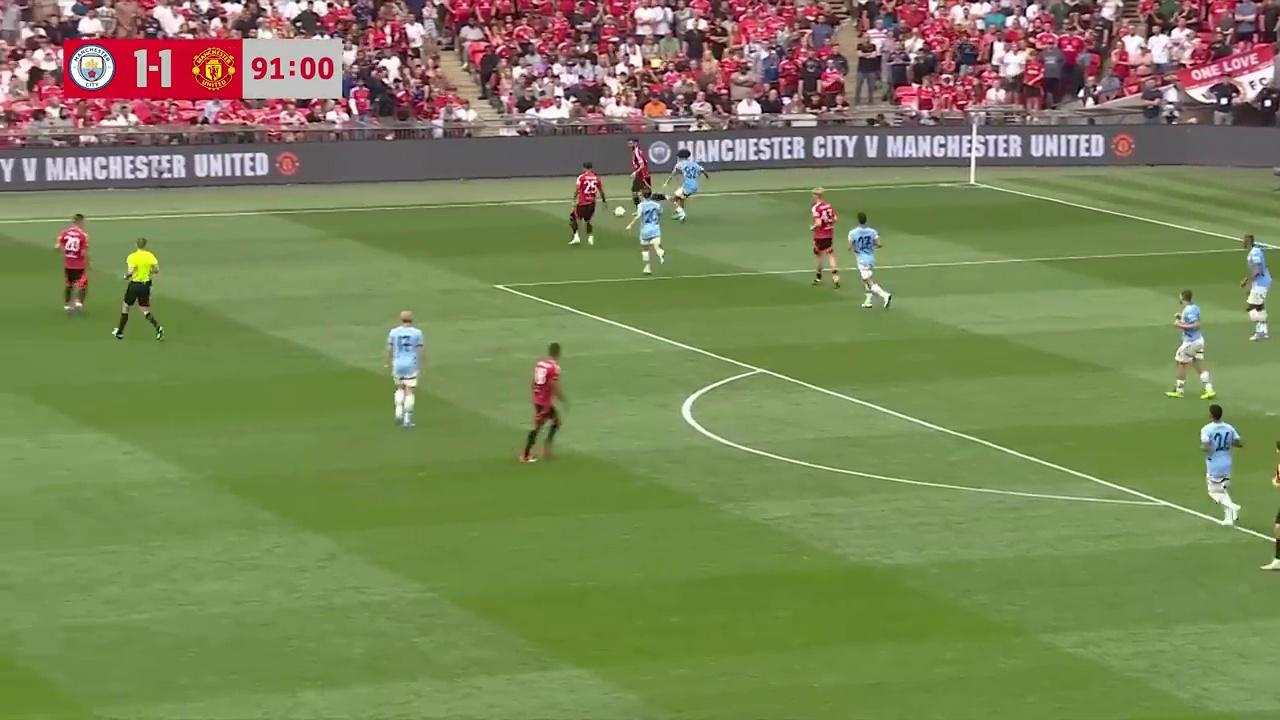ball: (613, 203, 626, 218)
player: (518, 342, 566, 463), (1198, 401, 1244, 526), (1167, 290, 1212, 397), (385, 310, 425, 429), (845, 212, 890, 309), (55, 213, 91, 316), (1239, 234, 1272, 341), (809, 189, 841, 288), (569, 164, 607, 246), (631, 188, 667, 273), (662, 164, 699, 222), (627, 141, 654, 220), (1266, 448, 1280, 569)
referee: (113, 237, 164, 342)
